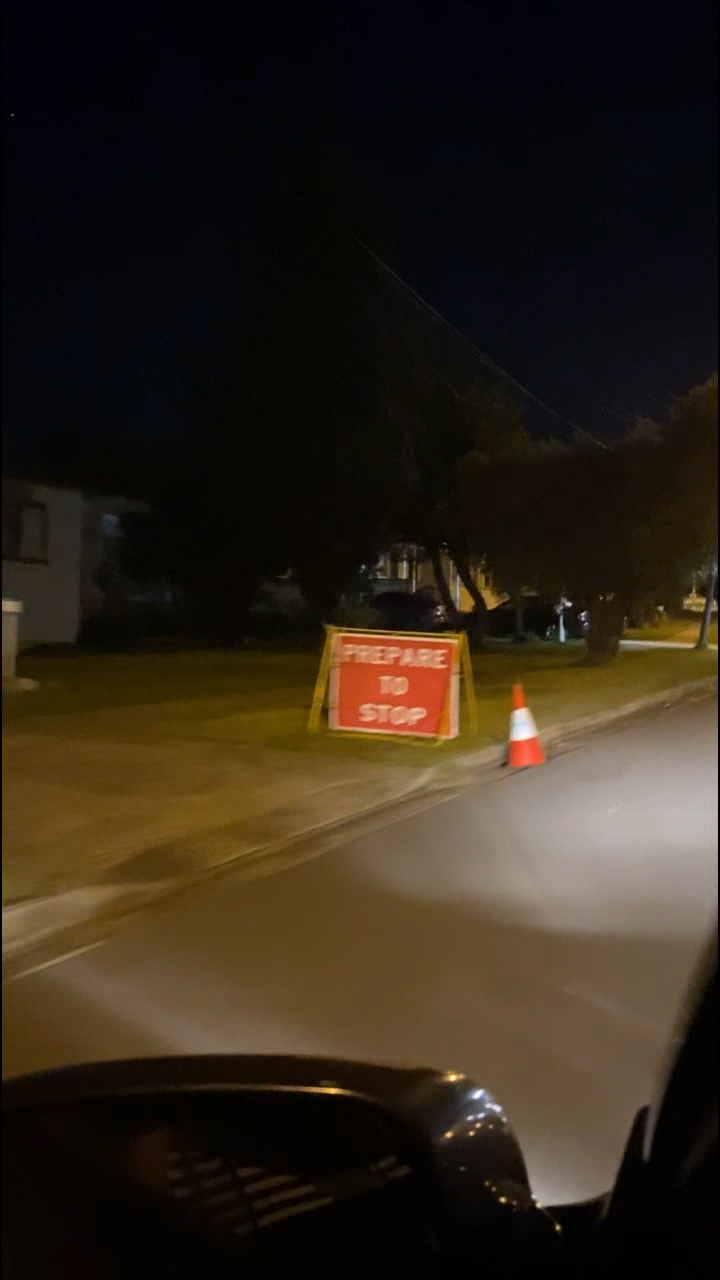prepare to stop board: (318, 623, 461, 741)
road cone: (505, 673, 547, 768)
